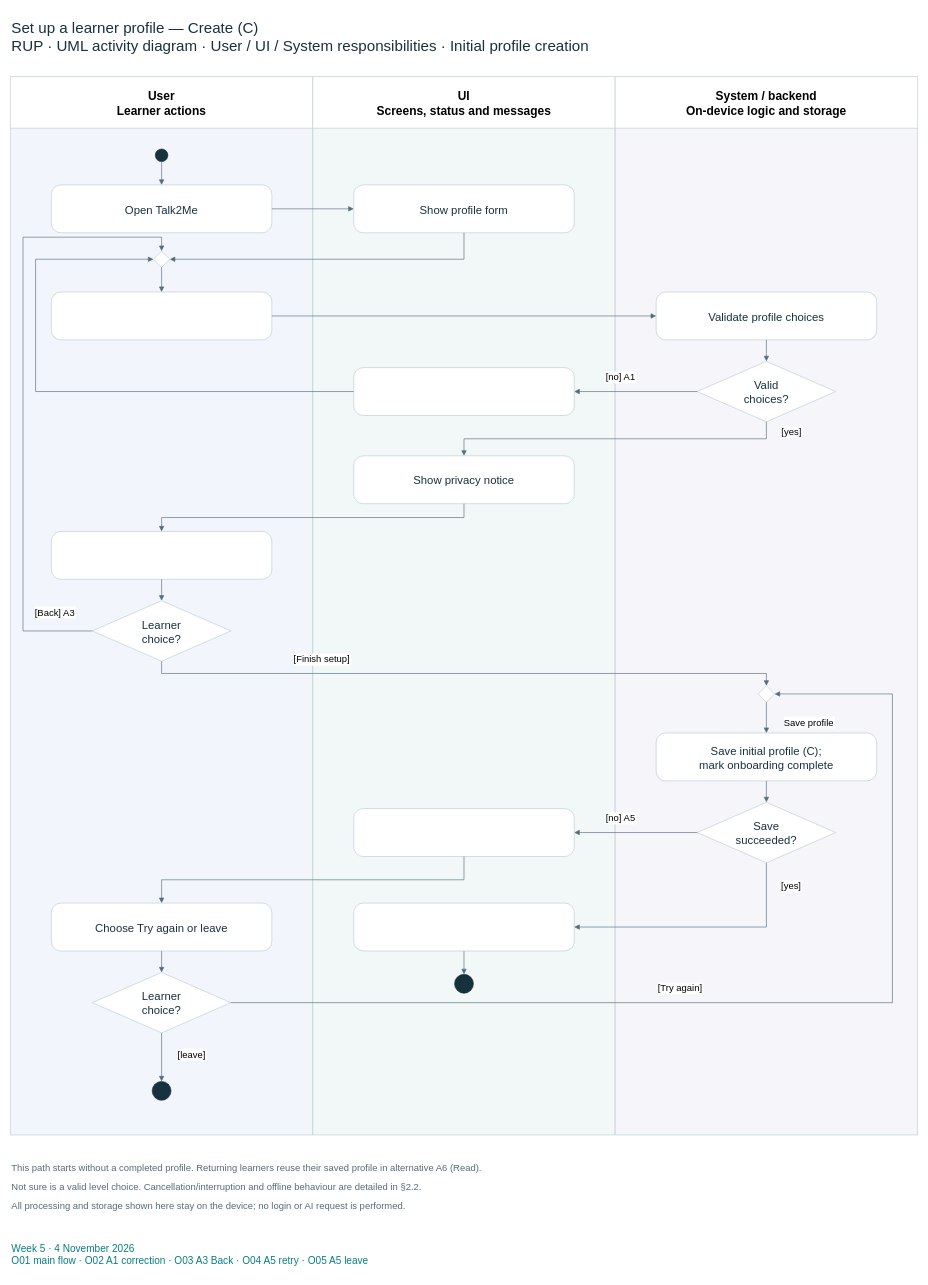
Image size: 928x1285. Some labels were removed from this diagram. The centre of each missing label's shape, as x and y in pixels:
"Choose language and level; select Continue" goes at (161,315).
"Profile ready" goes at (463,983).
"Read privacy notice" goes at (161,555).
"Setup incomplete" goes at (161,1090).
"Show field error; keep other choices" goes at (463,391).
"Show Profile not saved; keep choices for retry" goes at (463,832).
"Show profile ready; open journal" goes at (463,926).
